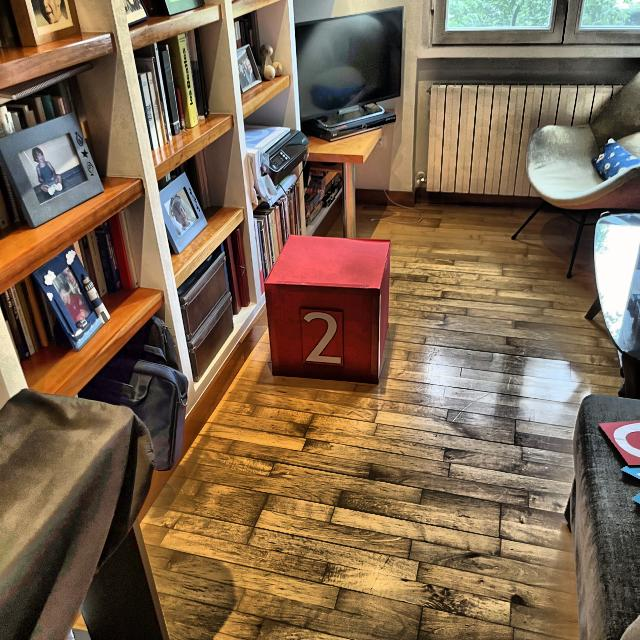red box: (263, 234, 391, 384)
two: (304, 311, 342, 364)
